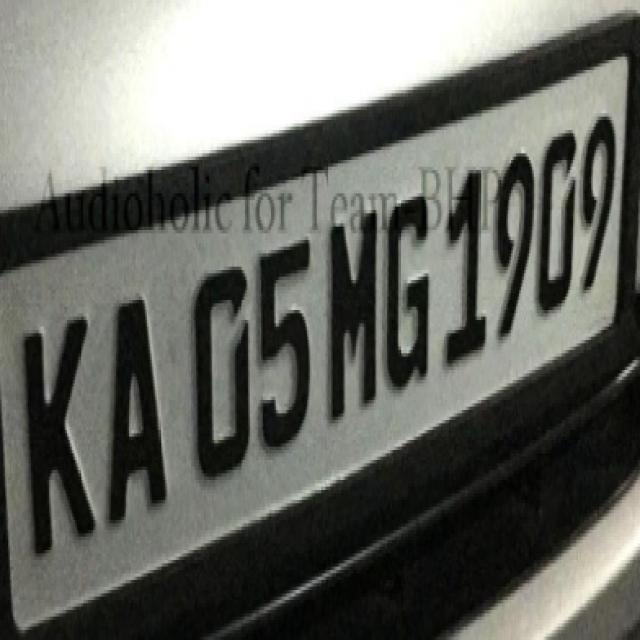0: (193, 254, 250, 496), (541, 126, 578, 316)
1: (442, 162, 492, 386)
5: (255, 239, 315, 463)
9: (492, 148, 536, 356), (584, 114, 618, 309)
A: (104, 286, 174, 530)
G: (382, 189, 435, 396)
K: (16, 308, 100, 574)
M: (328, 197, 380, 430)
